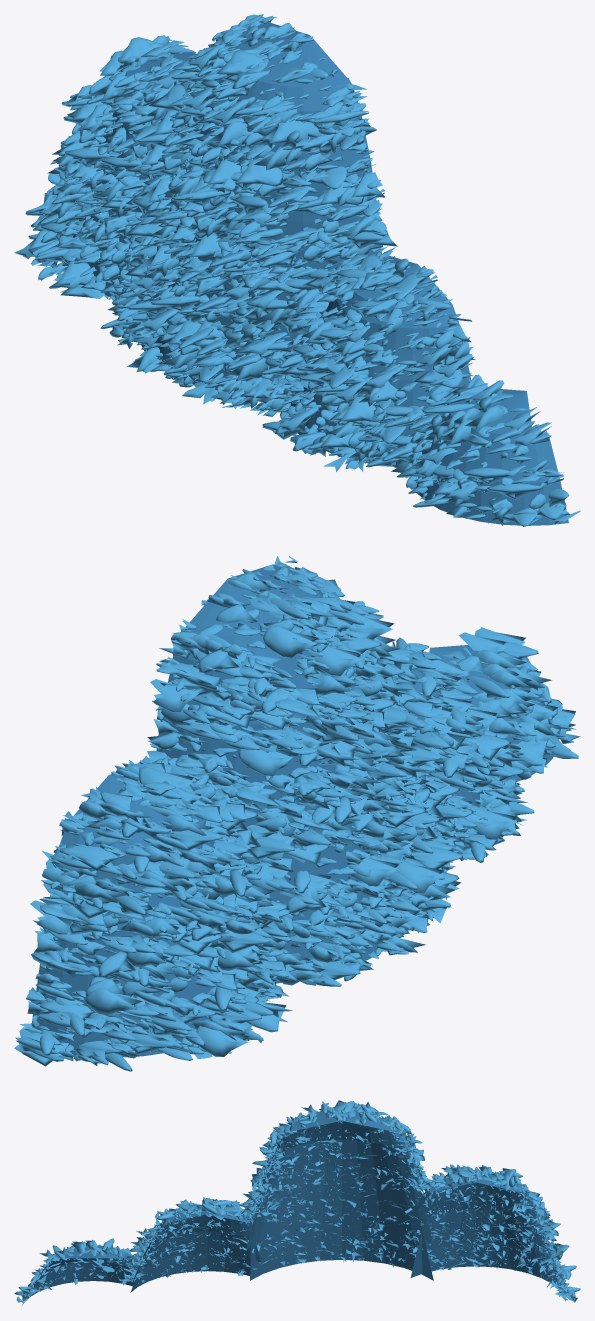
The model's file is fish_podium.glb.
The picture shows the model from 3 angles, top to bottom: view 1: azimuth 30°, elevation 25°; view 2: azimuth 150°, elevation 25°; view 3: azimuth 270°, elevation 25°; orthographic projection. The views are drawn at different scales.
Parts seen in each view (by area): view 1: Cone.001; view 2: Cone.001; view 3: Cone.001.
Part boxes in pixels (x1,y1,x2,y2): Cone.001: [14, 14, 580, 526]; Cone.001: [14, 556, 580, 1071]; Cone.001: [14, 1100, 580, 1305].
Bounding box in the file's own units: 2.49 × 3.66 × 9.92.
